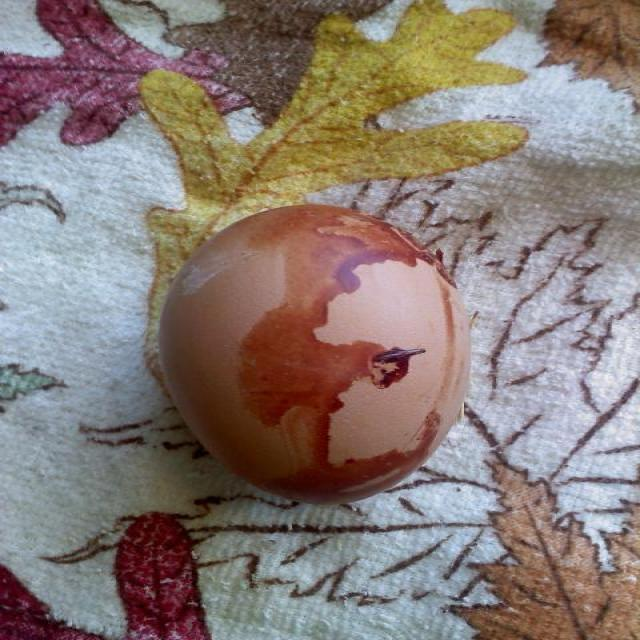Blood Stained Egg: (83, 195, 511, 518)
